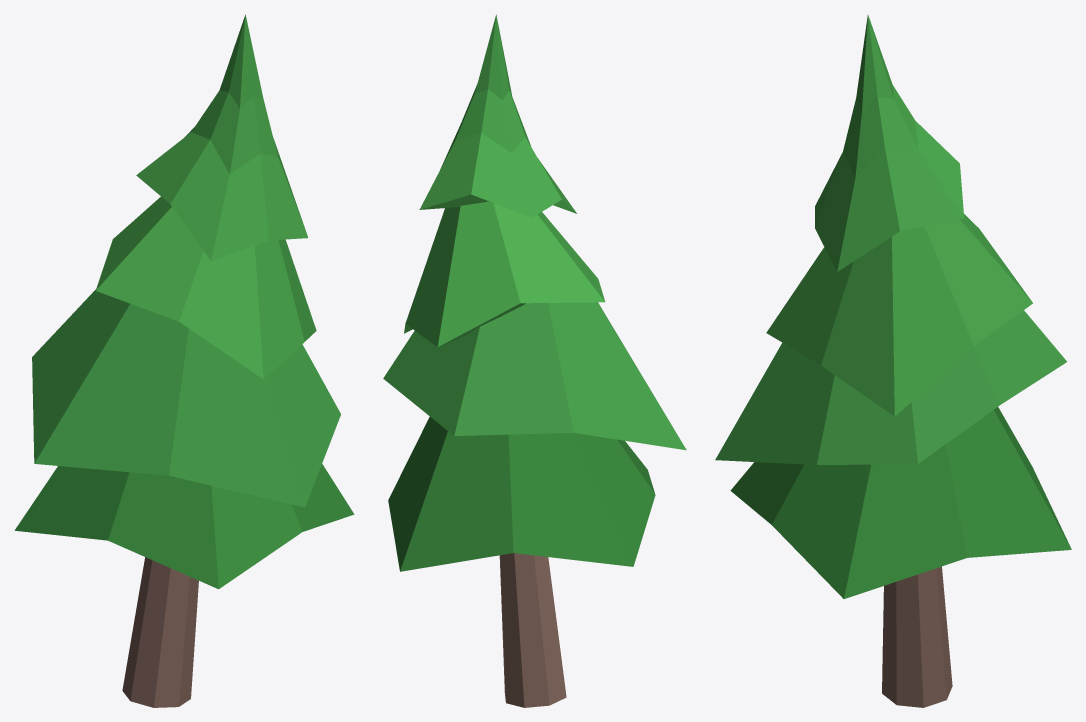
Rendered from Tree_055.glb.
3 views of the same model, side by side, from view 1: azimuth 30°, elevation 25°; view 2: azimuth 150°, elevation 25°; view 3: azimuth 270°, elevation 25° (orthographic). The views are drawn at different scales.
Visible parts, largest first — view 1: Tree_055; view 2: Tree_055; view 3: Tree_055.
Boxes of the visible parts, left/top/right/bottom form: Tree_055: left=14, top=14, right=354, bottom=707; Tree_055: left=383, top=14, right=686, bottom=707; Tree_055: left=715, top=15, right=1071, bottom=707.
Bounding box in the file's own units: 2.34 × 5.06 × 2.3.
1 material, 1 textured.
